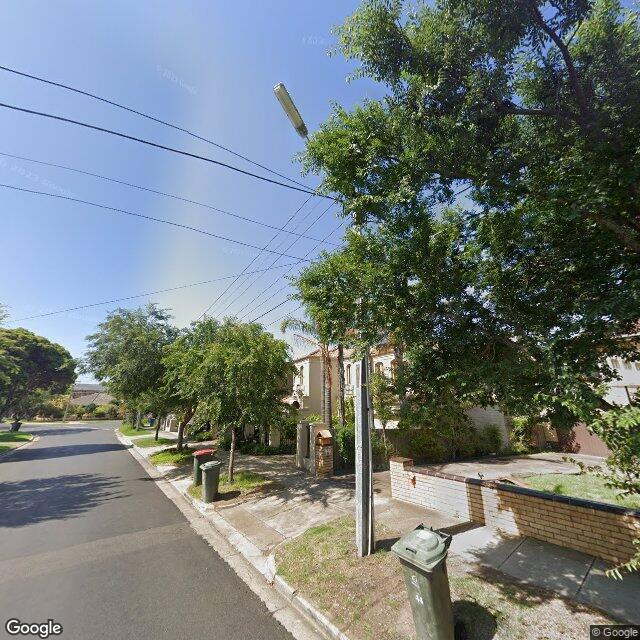concrete-pole: (354, 138, 376, 556)
streetlight: (272, 80, 358, 226)
